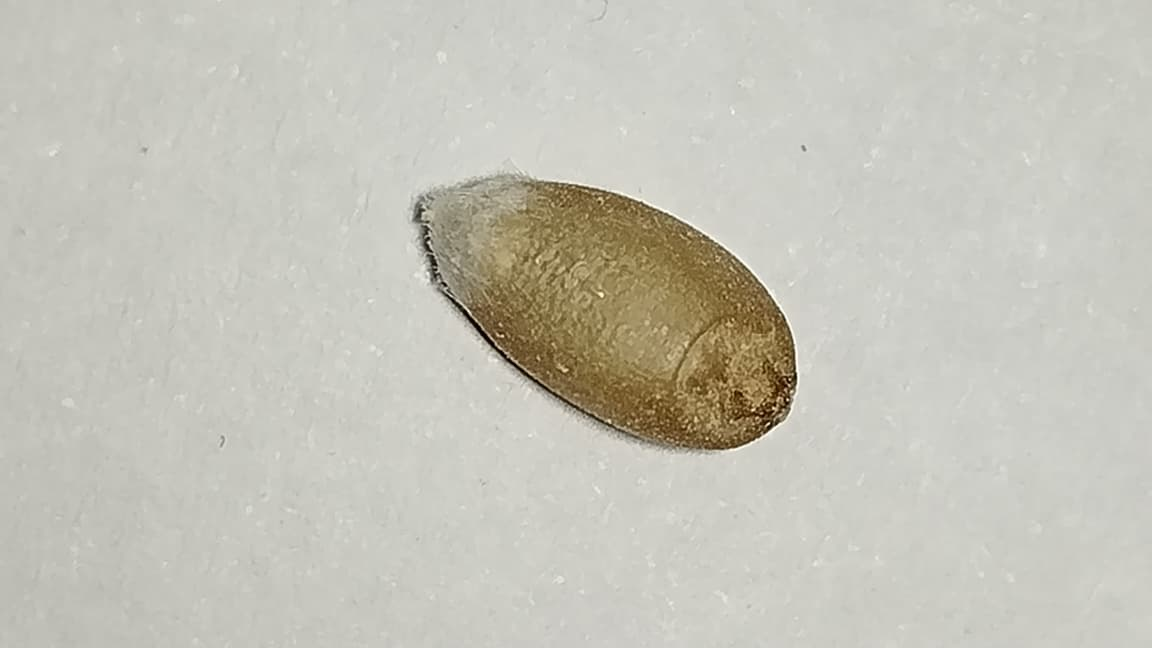damage: (417, 178, 796, 450)
staindamage: (660, 309, 796, 434)
